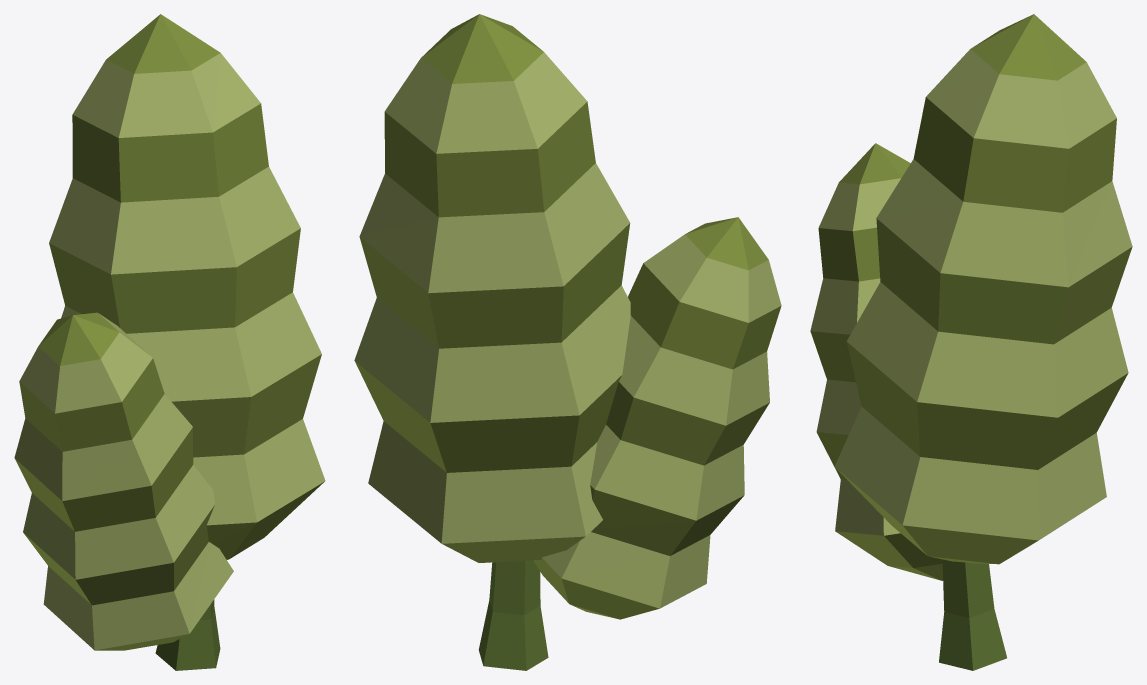
Rendered from hops.gltf.
3 views of the same model, side by side, from view 1: azimuth 30°, elevation 25°; view 2: azimuth 150°, elevation 25°; view 3: azimuth 270°, elevation 25° (orthographic). The views are drawn at different scales.
Parts seen in each view (by area): view 1: hops; view 2: hops; view 3: hops.
Boxes of the visible parts, x1=… form: hops: x1=14, y1=14, x2=325, y2=670; hops: x1=354, y1=14, x2=781, y2=670; hops: x1=810, y1=14, x2=1132, y2=670.
Bounding box in the file's own units: 0.1118 × 0.2213 × 0.1004.
